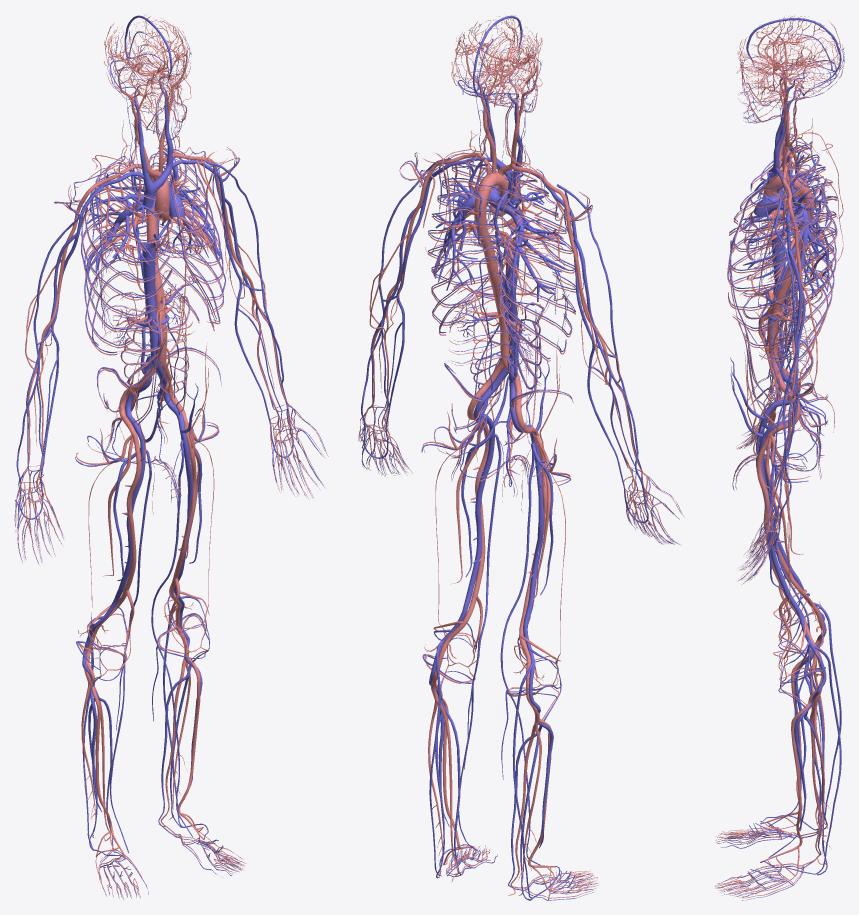
File: vessels.glb
The picture shows the model from 3 angles, left to right: view 1: azimuth 30°, elevation 25°; view 2: azimuth 150°, elevation 25°; view 3: azimuth 270°, elevation 25°; orthographic projection. The views are drawn at different scales.
Parts seen in each view (by area): view 1: Object_153, Object_2; view 2: Object_153, Object_2; view 3: Object_2, Object_153.
Boxes of the visible parts, left/top/right/bottom form: Object_153: left=15, top=15, right=325, bottom=899; Object_2: left=14, top=14, right=328, bottom=897; Object_153: left=359, top=15, right=682, bottom=900; Object_2: left=358, top=15, right=684, bottom=898; Object_2: left=714, top=14, right=844, bottom=898; Object_153: left=715, top=17, right=844, bottom=900.
Bounding box in the file's own units: 0.6636 × 1.7 × 0.2354.
